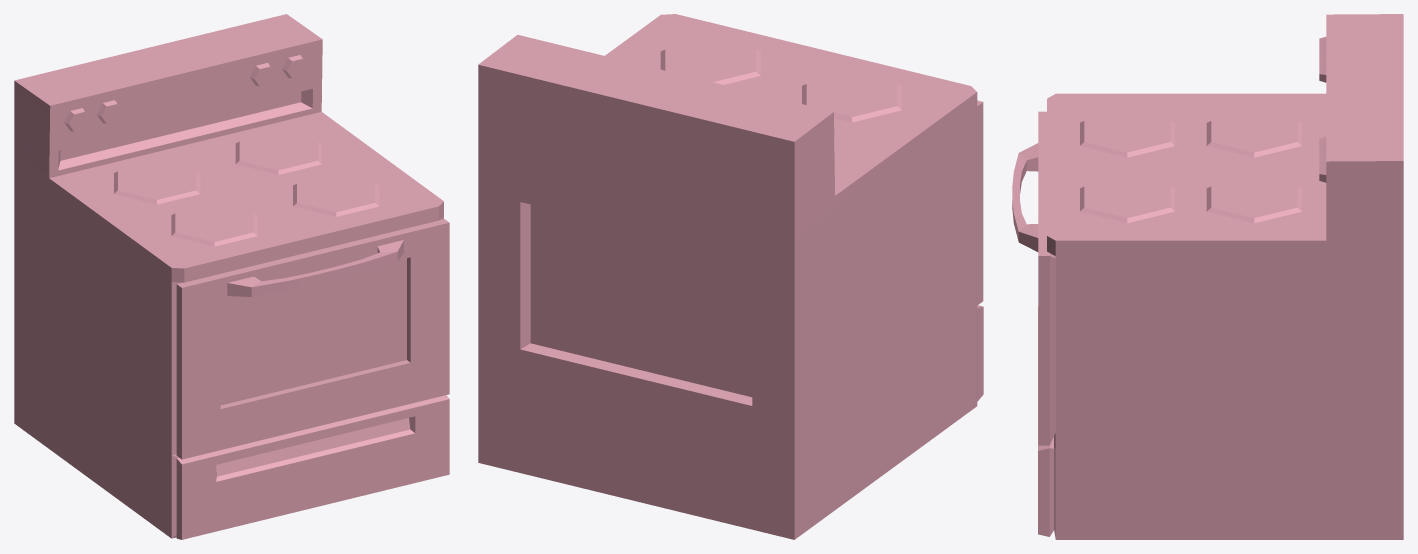
Rendered from KitchenOven.fbx.
The picture shows the model from 3 angles, left to right: view 1: azimuth 30°, elevation 25°; view 2: azimuth 150°, elevation 25°; view 3: azimuth 270°, elevation 25°; orthographic projection. The views are drawn at different scales.
Visible parts, largest first — view 1: KitchenOven; view 2: KitchenOven; view 3: KitchenOven.
Boxes of the visible parts, x1,y1,x2,y2 form: KitchenOven: (14,14,449,539); KitchenOven: (478,14,983,539); KitchenOven: (1012,14,1403,539).
Size of the model in its own units: 100 by 120 by 112.
